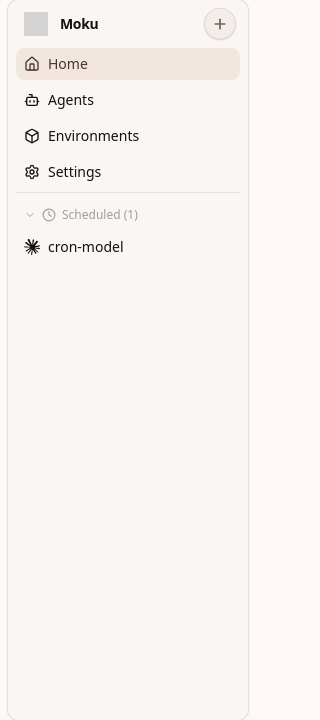
Test: Sidebar › toggling Scheduled section hides/shows cron sessions
Expected: the text "cron-model" is shown, [48,237,124,257]
# Click to collapse (label is "Scheduled (1)" as a single inline string)
Click the button "Scheduled (1)" at (128, 215), box [16,201,240,229]
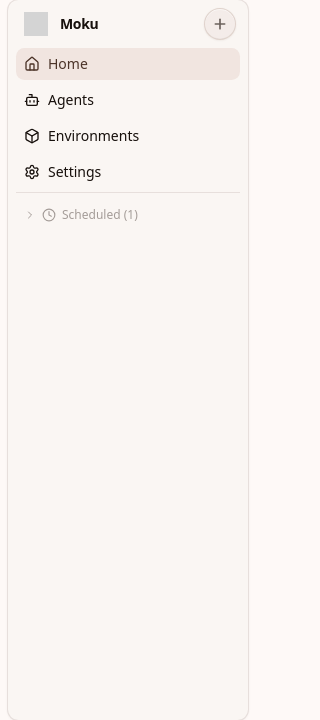
Result: the button "cron-model" is gone
# Click again to expand
Click the button "Scheduled (1)" at (128, 215), box [16,201,240,229]
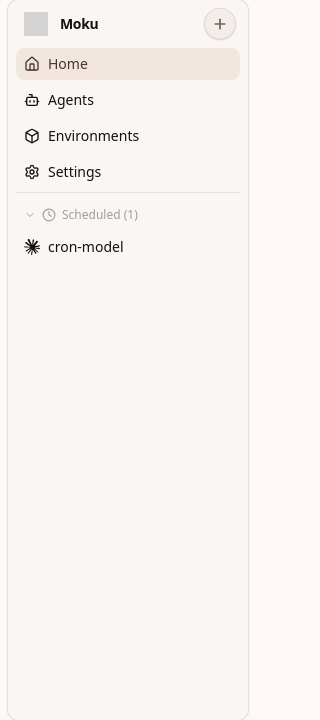
Result: the text "cron-model" is shown at [48,237,124,257]
